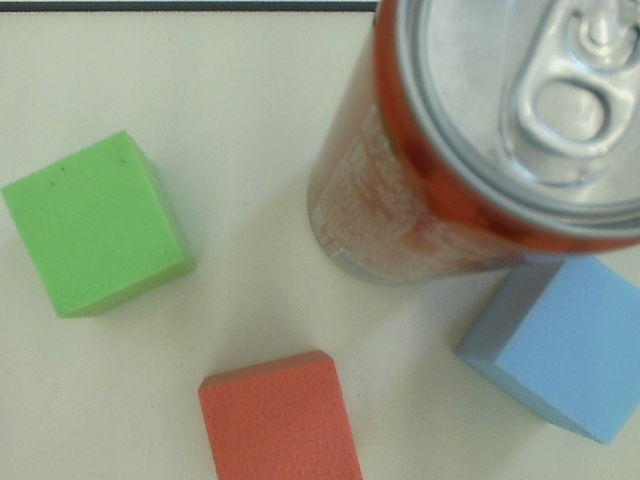bluecube: (452, 251, 640, 449)
cola: (303, 2, 640, 294)
greencube: (1, 128, 196, 325)
redcube: (193, 348, 363, 480)
